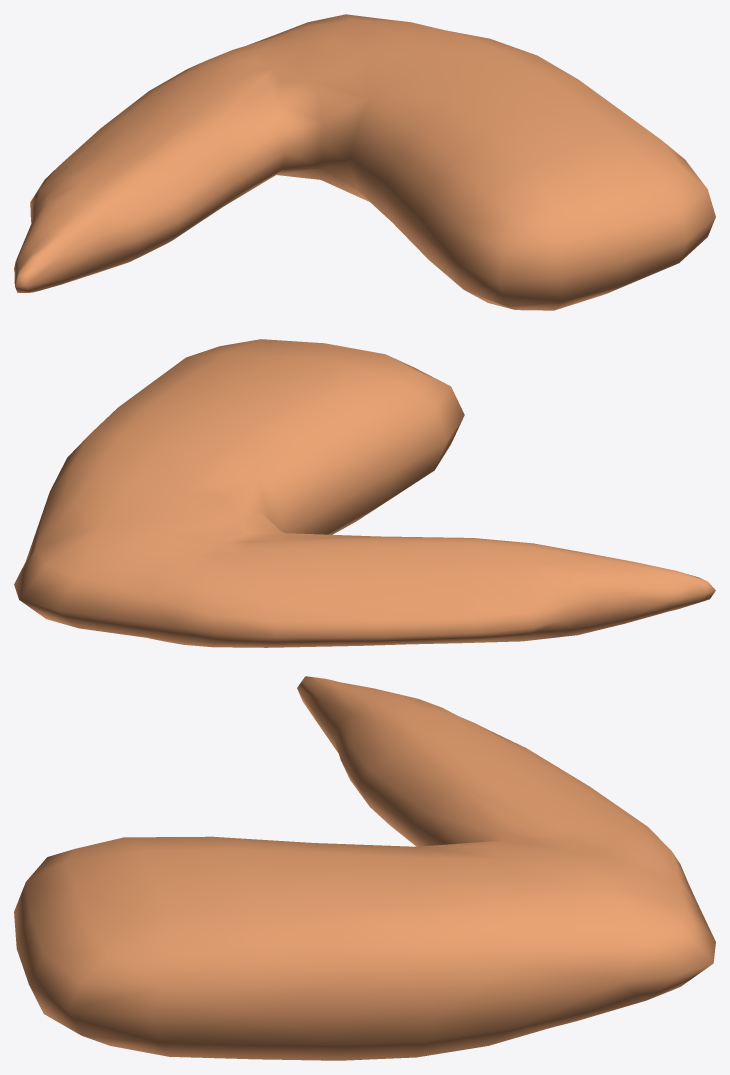
The model's file is jichi.fbx.
The picture shows the model from 3 angles, top to bottom: view 1: azimuth 30°, elevation 25°; view 2: azimuth 150°, elevation 25°; view 3: azimuth 270°, elevation 25°; orthographic projection. The views are drawn at different scales.
Parts seen in each view (by area): view 1: Box001; view 2: Box001; view 3: Box001.
Boxes of the visible parts, x1,y1,x2,y2 form: Box001: (14, 14, 715, 310); Box001: (14, 339, 715, 647); Box001: (14, 676, 715, 1060).
Bounding box in the file's own units: 418 × 91.35 × 370.
